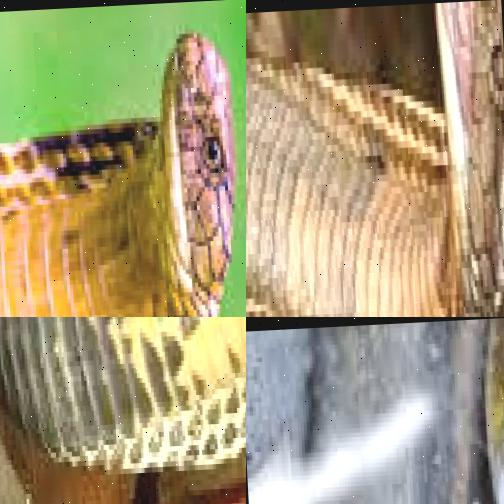snake: (246, 0, 504, 317), (0, 0, 246, 317), (0, 317, 246, 504), (440, 317, 504, 504)
